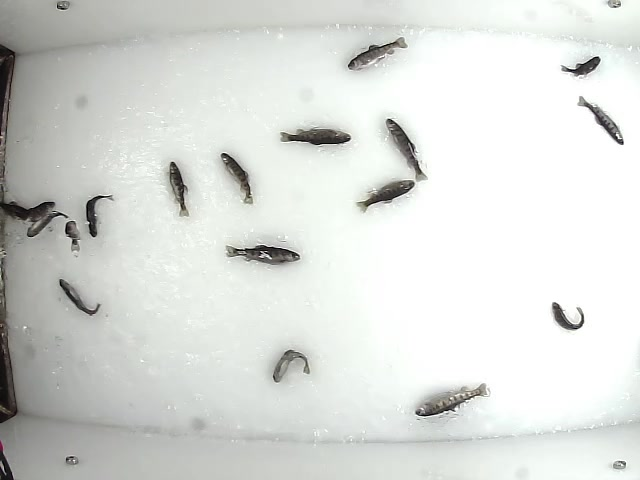fish: (383, 117, 430, 182), (412, 381, 490, 417), (575, 95, 627, 146), (344, 35, 410, 73), (354, 175, 416, 214), (219, 151, 256, 208), (224, 244, 302, 267), (58, 278, 101, 316), (23, 208, 73, 240), (84, 190, 116, 239), (276, 127, 353, 147), (271, 347, 312, 383), (167, 158, 191, 219), (559, 51, 604, 81), (1, 199, 61, 221), (550, 301, 587, 333), (63, 218, 81, 252)
